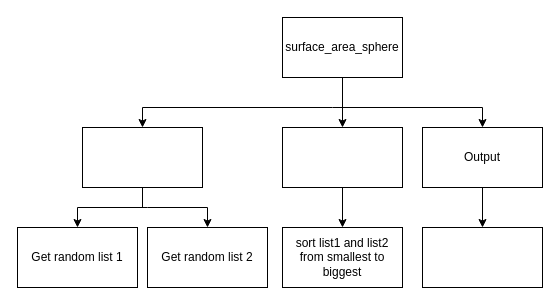
This 560x305 diagram has some shape labels left out. Here are the shapes that lost their labels. From the top down, the centre of each, then its label:
At point 142,157: "Input".
At point 342,157: "Process".
At point 482,257: "Show mergedliist".
